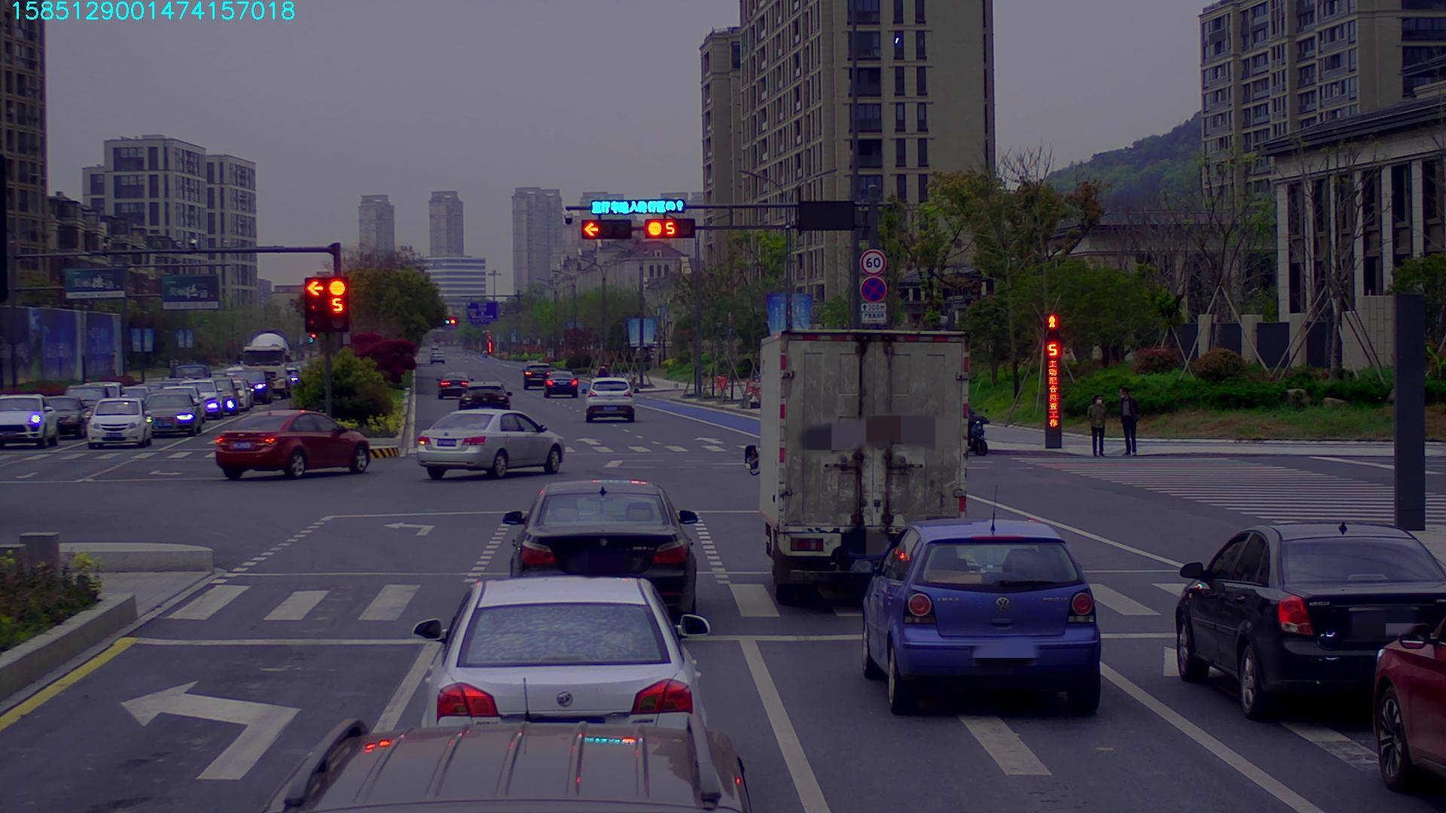red: (578, 219, 625, 244), (649, 219, 694, 238)
wait_on: (589, 197, 686, 213)
